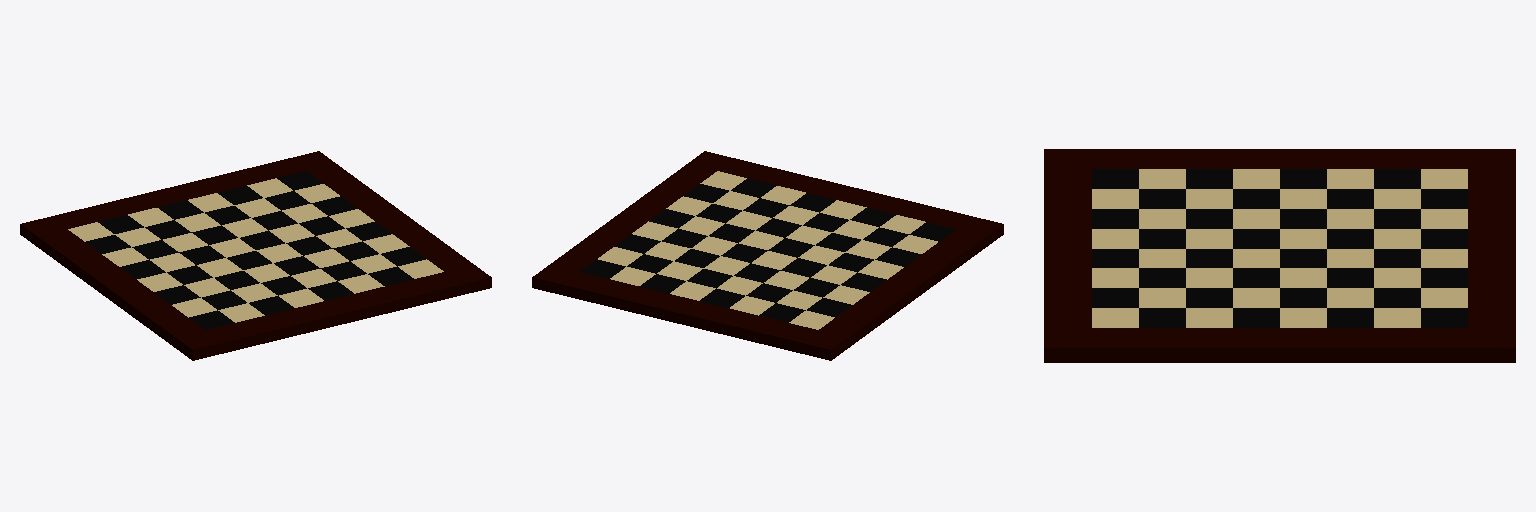
robot.urdf — chessBoard:
<?xml version="1.0" ?>
<robot name="chessBoard">
    
  <link name="world"/>

  <joint name="fixed" type="fixed">
    <parent link="world"/>
    <child link="chessBoard__link_0"/>
  </joint>
  
  <link name="chessBoard__link_0">
    <inertial>
      <mass value="1"/>
      <origin rpy="0  0  0" xyz="0  0  0"/>
      <!--inertia ixx="0.166667" ixy="0" ixz="0" iyy="0.166667" iyz="0" izz="0.166667"/ -->
      <inertia ixx="0" ixy="0" ixz="0" iyy="0" iyz="0" izz="0"/>
    </inertial>
    <collision name="chessBoard__collision">
      <origin rpy="0  0  0" xyz="0       0       0.009525"/>
      <geometry>
        <mesh filename="package://chessRobot/models/chessBoard/chessBoard.dae"/>
      </geometry>
    </collision>
    <visual name="chessBoard__visual">
      <origin rpy="0  0  0" xyz="0       0       0.009525"/>
      <geometry>
         <mesh filename="package://chessRobot/models/chessBoard/chessBoard.dae"/>
      </geometry>
    </visual>
  </link>
</robot>

--- What the picture shows (computed from the rendered views, not written in the file) ---
3 views of the same robot in one strip: view 1: azimuth 30°, elevation 25°; view 2: azimuth 150°, elevation 25°; view 3: azimuth 270°, elevation 25° (orthographic).
Model chessBoard with 2 links and 1 joints (1 fixed), rooted at world, posed every joint at zero.
Visible links, largest first — view 1: chessBoard__link_0; view 2: chessBoard__link_0; view 3: chessBoard__link_0.
Link boxes in pixels (x1,y1,x2,y2): chessBoard__link_0: [20, 151, 491, 360]; chessBoard__link_0: [532, 151, 1003, 360]; chessBoard__link_0: [1044, 149, 1515, 362].
Bounding box of the posed robot: 0.5461 × 0.5461 × 0.0191 m (x, y, z).
1 mesh visuals loaded from 1 distinct referenced files (1 Collada DAE).